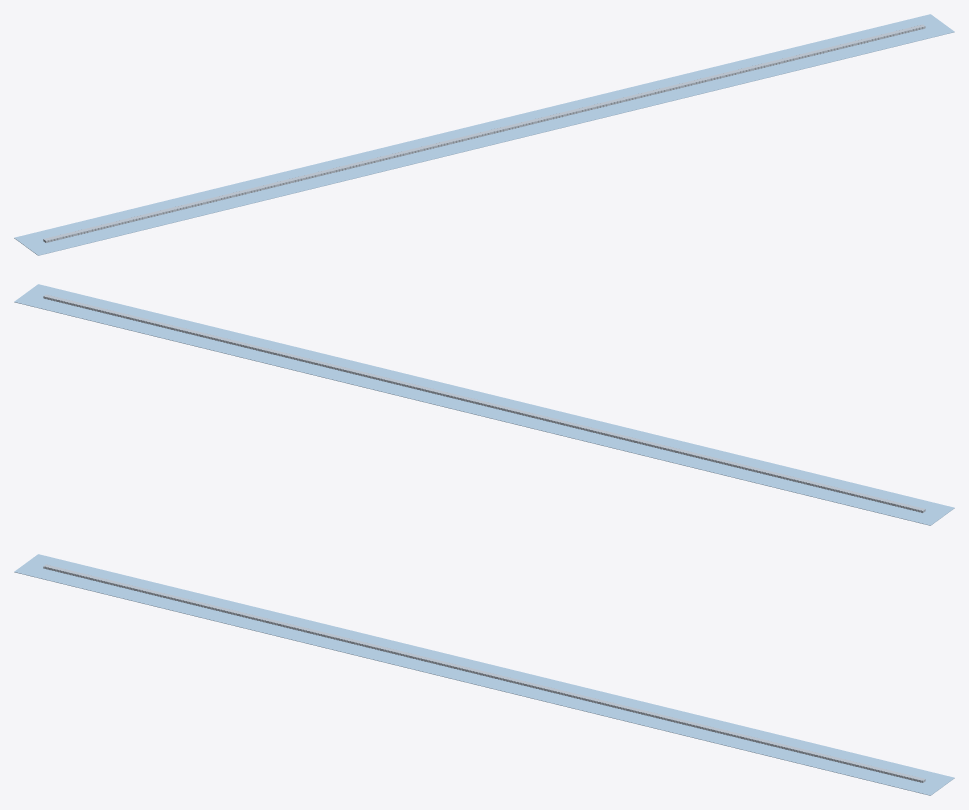
File: siepic-bragg.glb
3 views of the same model, one above another, from view 1: azimuth 30°, elevation 25°; view 2: azimuth 150°, elevation 25°; view 3: azimuth 330°, elevation 25° (orthographic).
Parts seen in each view (by area): view 1: box_top, core_0; view 2: box_top, core_0; view 3: box_top, core_0.
Boxes of the visible parts, box(x1,y1,x2,y2) form: box_top: box(14, 14, 954, 255); core_0: box(43, 24, 925, 242); box_top: box(14, 284, 954, 525); core_0: box(43, 294, 925, 512); box_top: box(14, 554, 954, 795); core_0: box(43, 564, 925, 782).
Size of the model in its own units: 99.1 by 0.26 by 4.55.
